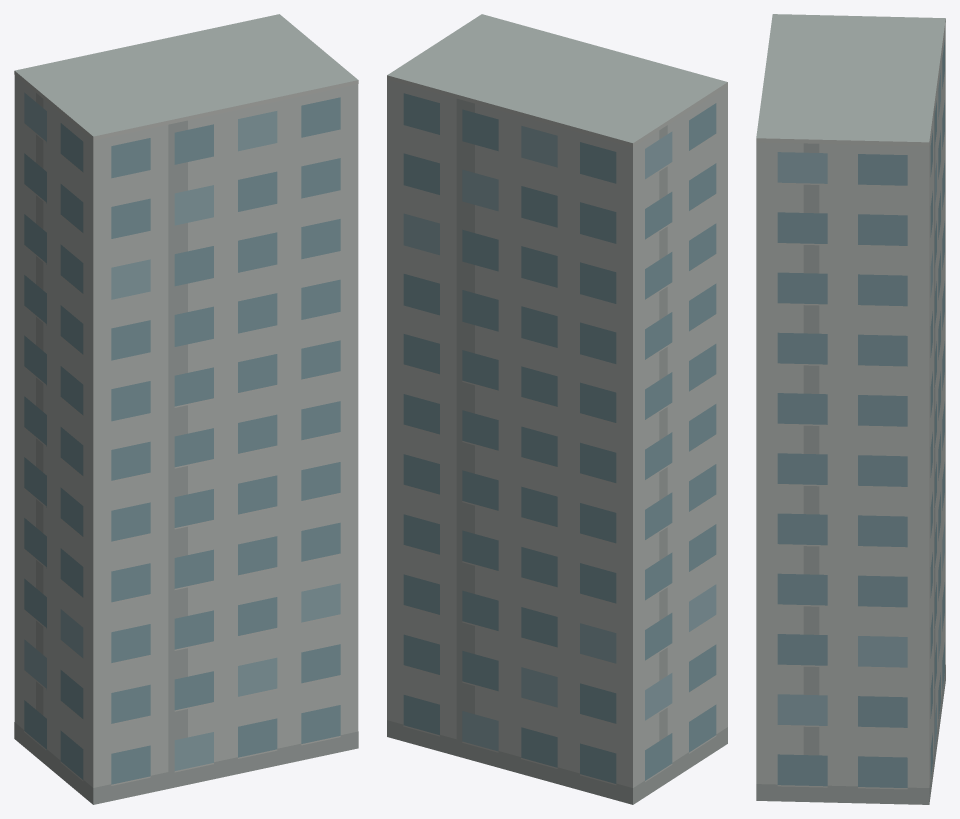
The model's file is residential-91a37726-d9e5-4574-9e6d-5f4af2e536b0.glb.
3 renders of one model, left to right at view 1: azimuth 30°, elevation 25°; view 2: azimuth 150°, elevation 25°; view 3: azimuth 270°, elevation 25°, orthographic.
Visible parts, largest first — view 1: residential-91a37726-d9e5-4574-9e6d-5f4af2e536b0.tmp; view 2: residential-91a37726-d9e5-4574-9e6d-5f4af2e536b0.tmp; view 3: residential-91a37726-d9e5-4574-9e6d-5f4af2e536b0.tmp.
Part boxes in pixels (<box>): residential-91a37726-d9e5-4574-9e6d-5f4af2e536b0.tmp: <box>14,14,358,804</box>; residential-91a37726-d9e5-4574-9e6d-5f4af2e536b0.tmp: <box>387,14,727,804</box>; residential-91a37726-d9e5-4574-9e6d-5f4af2e536b0.tmp: <box>756,14,945,804</box>.
Bounding box in the file's own units: 16.62 × 40 × 10.39.
